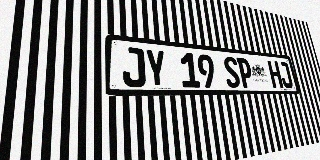1: (179, 52, 200, 88)
9: (197, 54, 217, 88)
H: (267, 60, 284, 88)
J: (122, 46, 146, 87), (278, 61, 294, 88)
P: (236, 57, 254, 88)
S: (222, 56, 241, 88)
Y: (144, 49, 168, 87)
